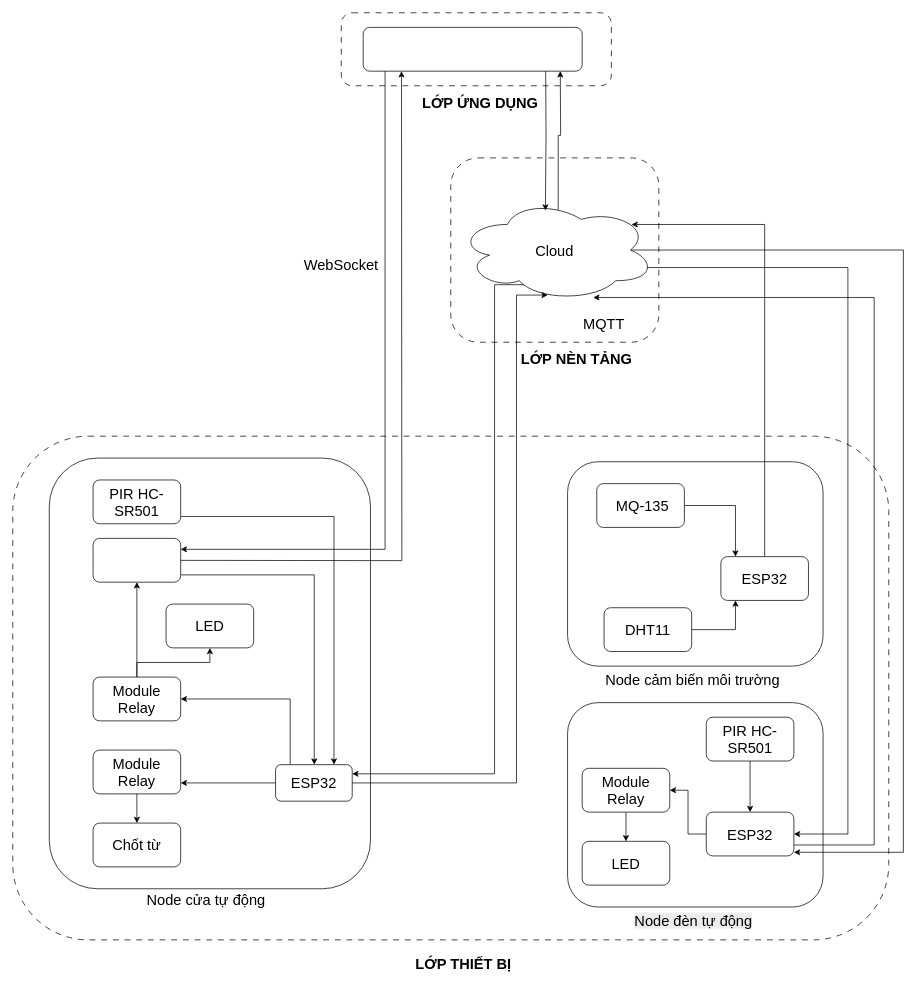
The diagram is 922 pixels wide and 1000 high, and some of its shapes have lost their labels. The centre of each missing label's shape, as x and y in pixels:
"Browser/App" belongs at (x=472, y=49).
"ESP32-CAM," belongs at (x=136, y=560).
